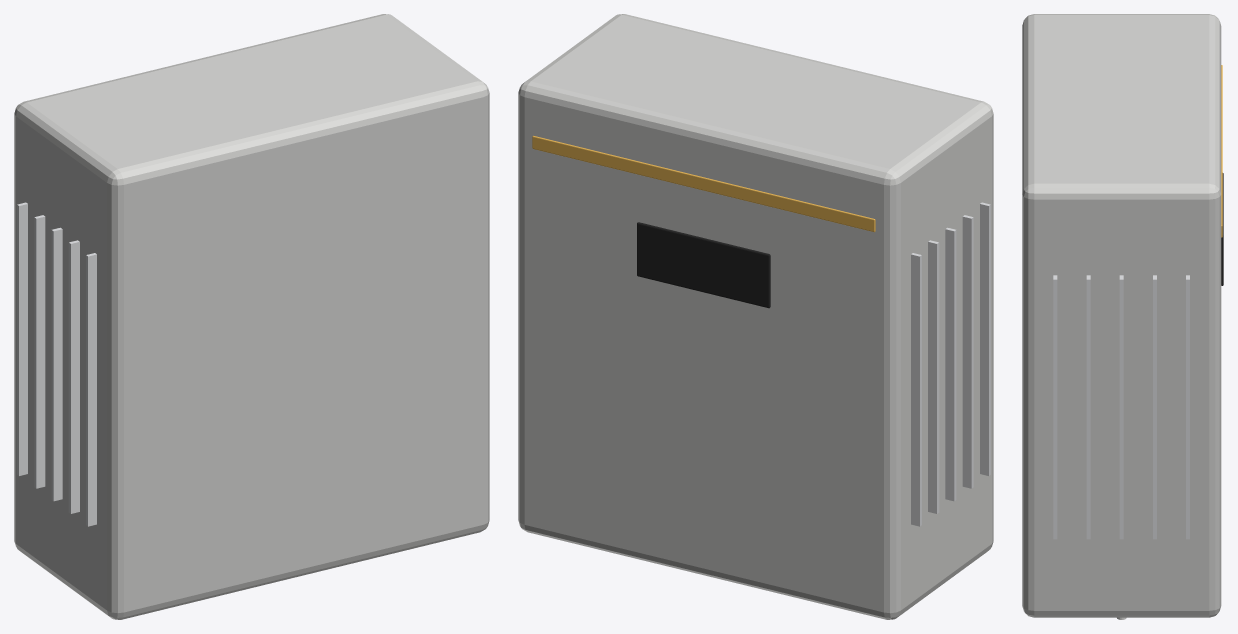
The model's file is growatt-mod-10ktl3-x.glb.
3 renders of one model, left to right at view 1: azimuth 30°, elevation 25°; view 2: azimuth 150°, elevation 25°; view 3: azimuth 270°, elevation 25°, orthographic. The views are drawn at different scales.
Visible parts, largest first — view 1: body, fin--1-1, fin--1-2, fin--1-3, fin--1-0, fin--1-4; view 2: body, display, stripe, fin--1-3, fin--1-2, fin--1-1, fin--1-0, fin--1-4; view 3: body, fin-1-0, fin-1-1, fin-1-2, fin-1-3, fin-1-4, stripe.
Part boxes in pixels (bbox=[...]): body: bbox=[14, 14, 489, 619]; fin--1-1: bbox=[68, 240, 79, 513]; fin--1-2: bbox=[51, 227, 62, 501]; fin--1-3: bbox=[34, 215, 45, 488]; fin--1-0: bbox=[86, 253, 96, 526]; fin--1-4: bbox=[17, 202, 27, 475]; body: bbox=[518, 14, 993, 619]; display: bbox=[637, 222, 770, 308]; stripe: bbox=[532, 135, 875, 232]; fin--1-3: bbox=[928, 240, 939, 513]; fin--1-2: bbox=[945, 227, 956, 501]; fin--1-1: bbox=[962, 215, 973, 488]; fin--1-0: bbox=[980, 202, 990, 475]; fin--1-4: bbox=[911, 253, 921, 526]; body: bbox=[1022, 14, 1221, 617]; fin-1-0: bbox=[1053, 275, 1057, 539]; fin-1-1: bbox=[1086, 275, 1090, 539]; fin-1-2: bbox=[1119, 275, 1123, 539]; fin-1-3: bbox=[1153, 275, 1156, 539]; fin-1-4: bbox=[1186, 275, 1189, 539]; stripe: bbox=[1221, 65, 1222, 237].
Bounding box in the file's own units: 0.445 × 0.498 × 0.2025.
